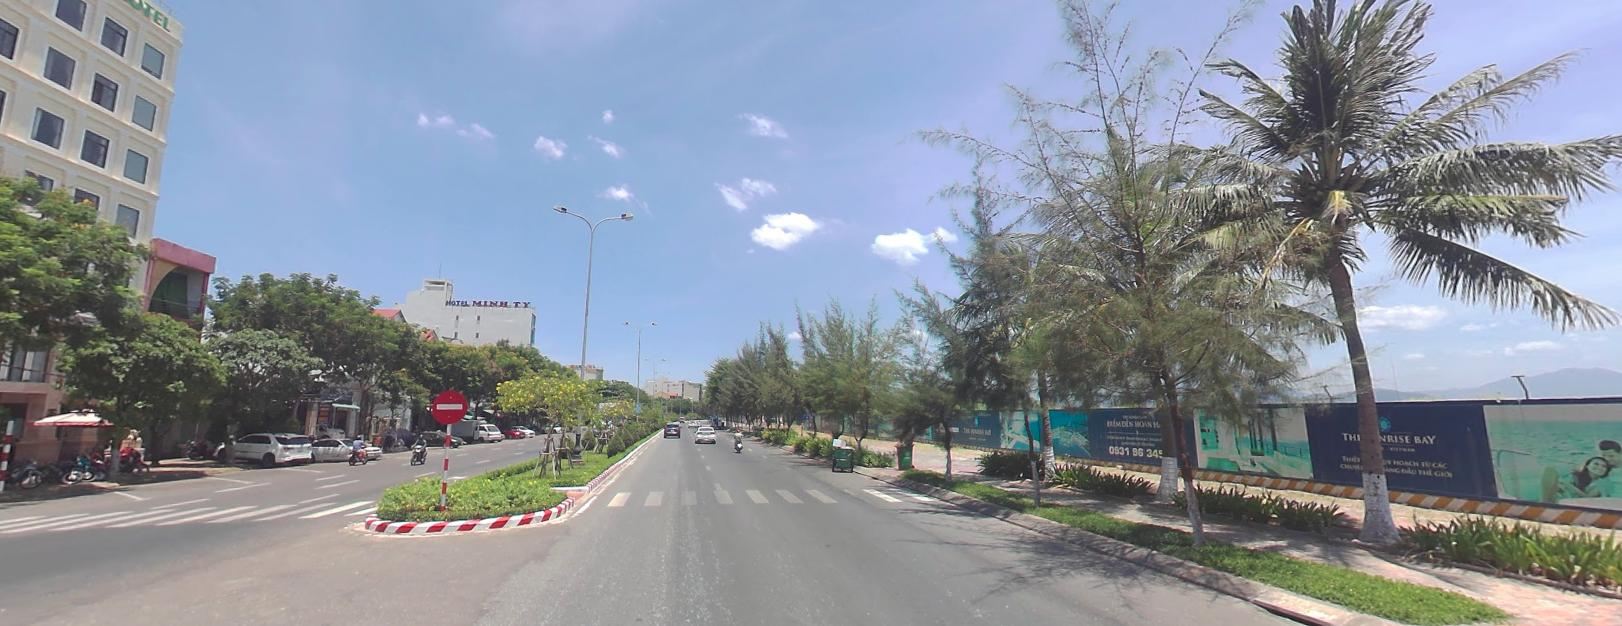Cam nguoc chieu: (432, 388, 465, 422)
